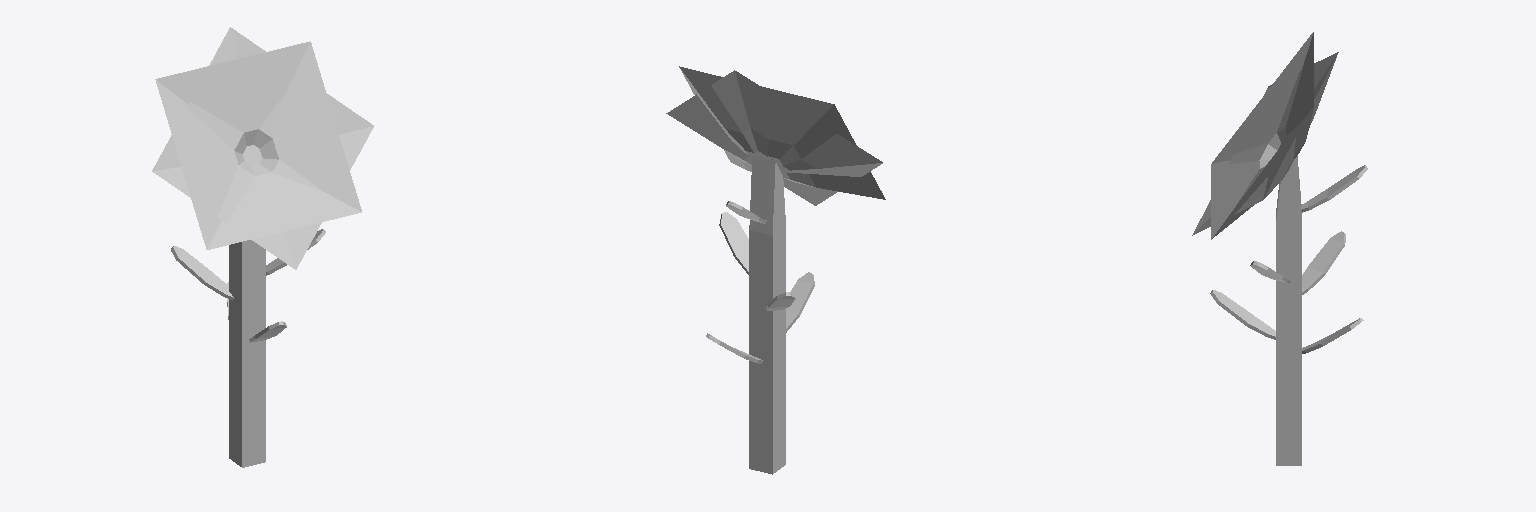
File: flower_4.obj
3 views of the same model, side by side, from view 1: azimuth 30°, elevation 25°; view 2: azimuth 150°, elevation 25°; view 3: azimuth 270°, elevation 25° (orthographic).
Parts seen in each view (by area): view 1: flower_4; view 2: flower_4; view 3: flower_4.
Boxes of the visible parts, <box> form: flower_4: <box>152,27,373,467</box>; flower_4: <box>666,66,885,474</box>; flower_4: <box>1192,32,1367,465</box>.
Bounding box in the file's own units: 0.66 × 1.18 × 0.4556.